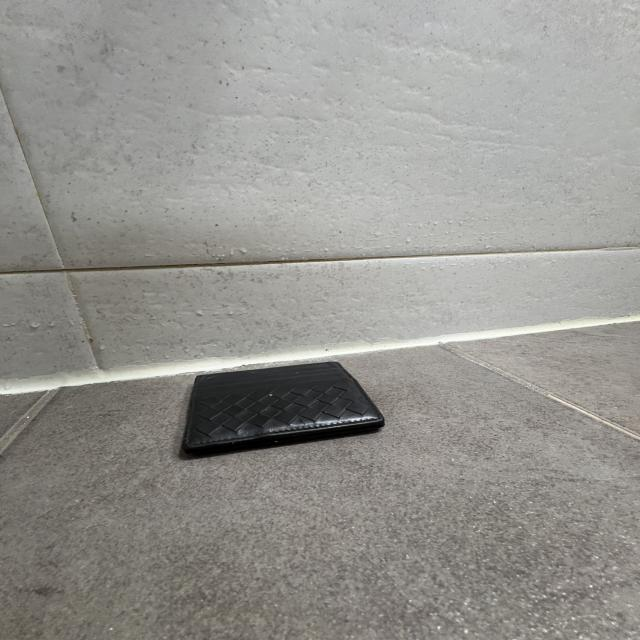wallet: (180, 361, 386, 462)
